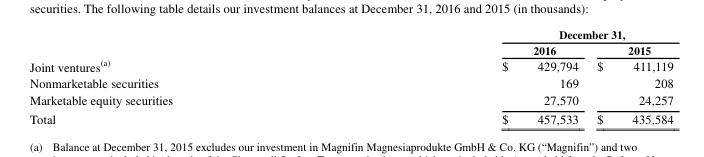table: (29, 28, 672, 126)
table column: (29, 28, 336, 126), (336, 28, 587, 126), (587, 28, 672, 126)
table column header: (29, 28, 672, 57)
table row: (29, 57, 672, 75), (29, 92, 672, 110), (29, 75, 672, 92), (29, 110, 672, 126), (29, 42, 672, 57), (29, 28, 672, 42)
table spanning cell: (336, 28, 672, 42)
